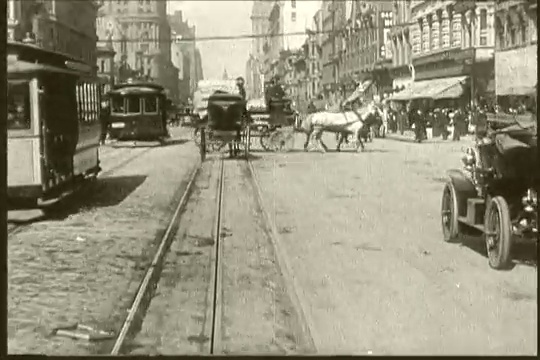car: (431, 101, 540, 277)
carriage: (239, 78, 377, 162), (189, 87, 255, 171)
trolley: (106, 78, 172, 154)
